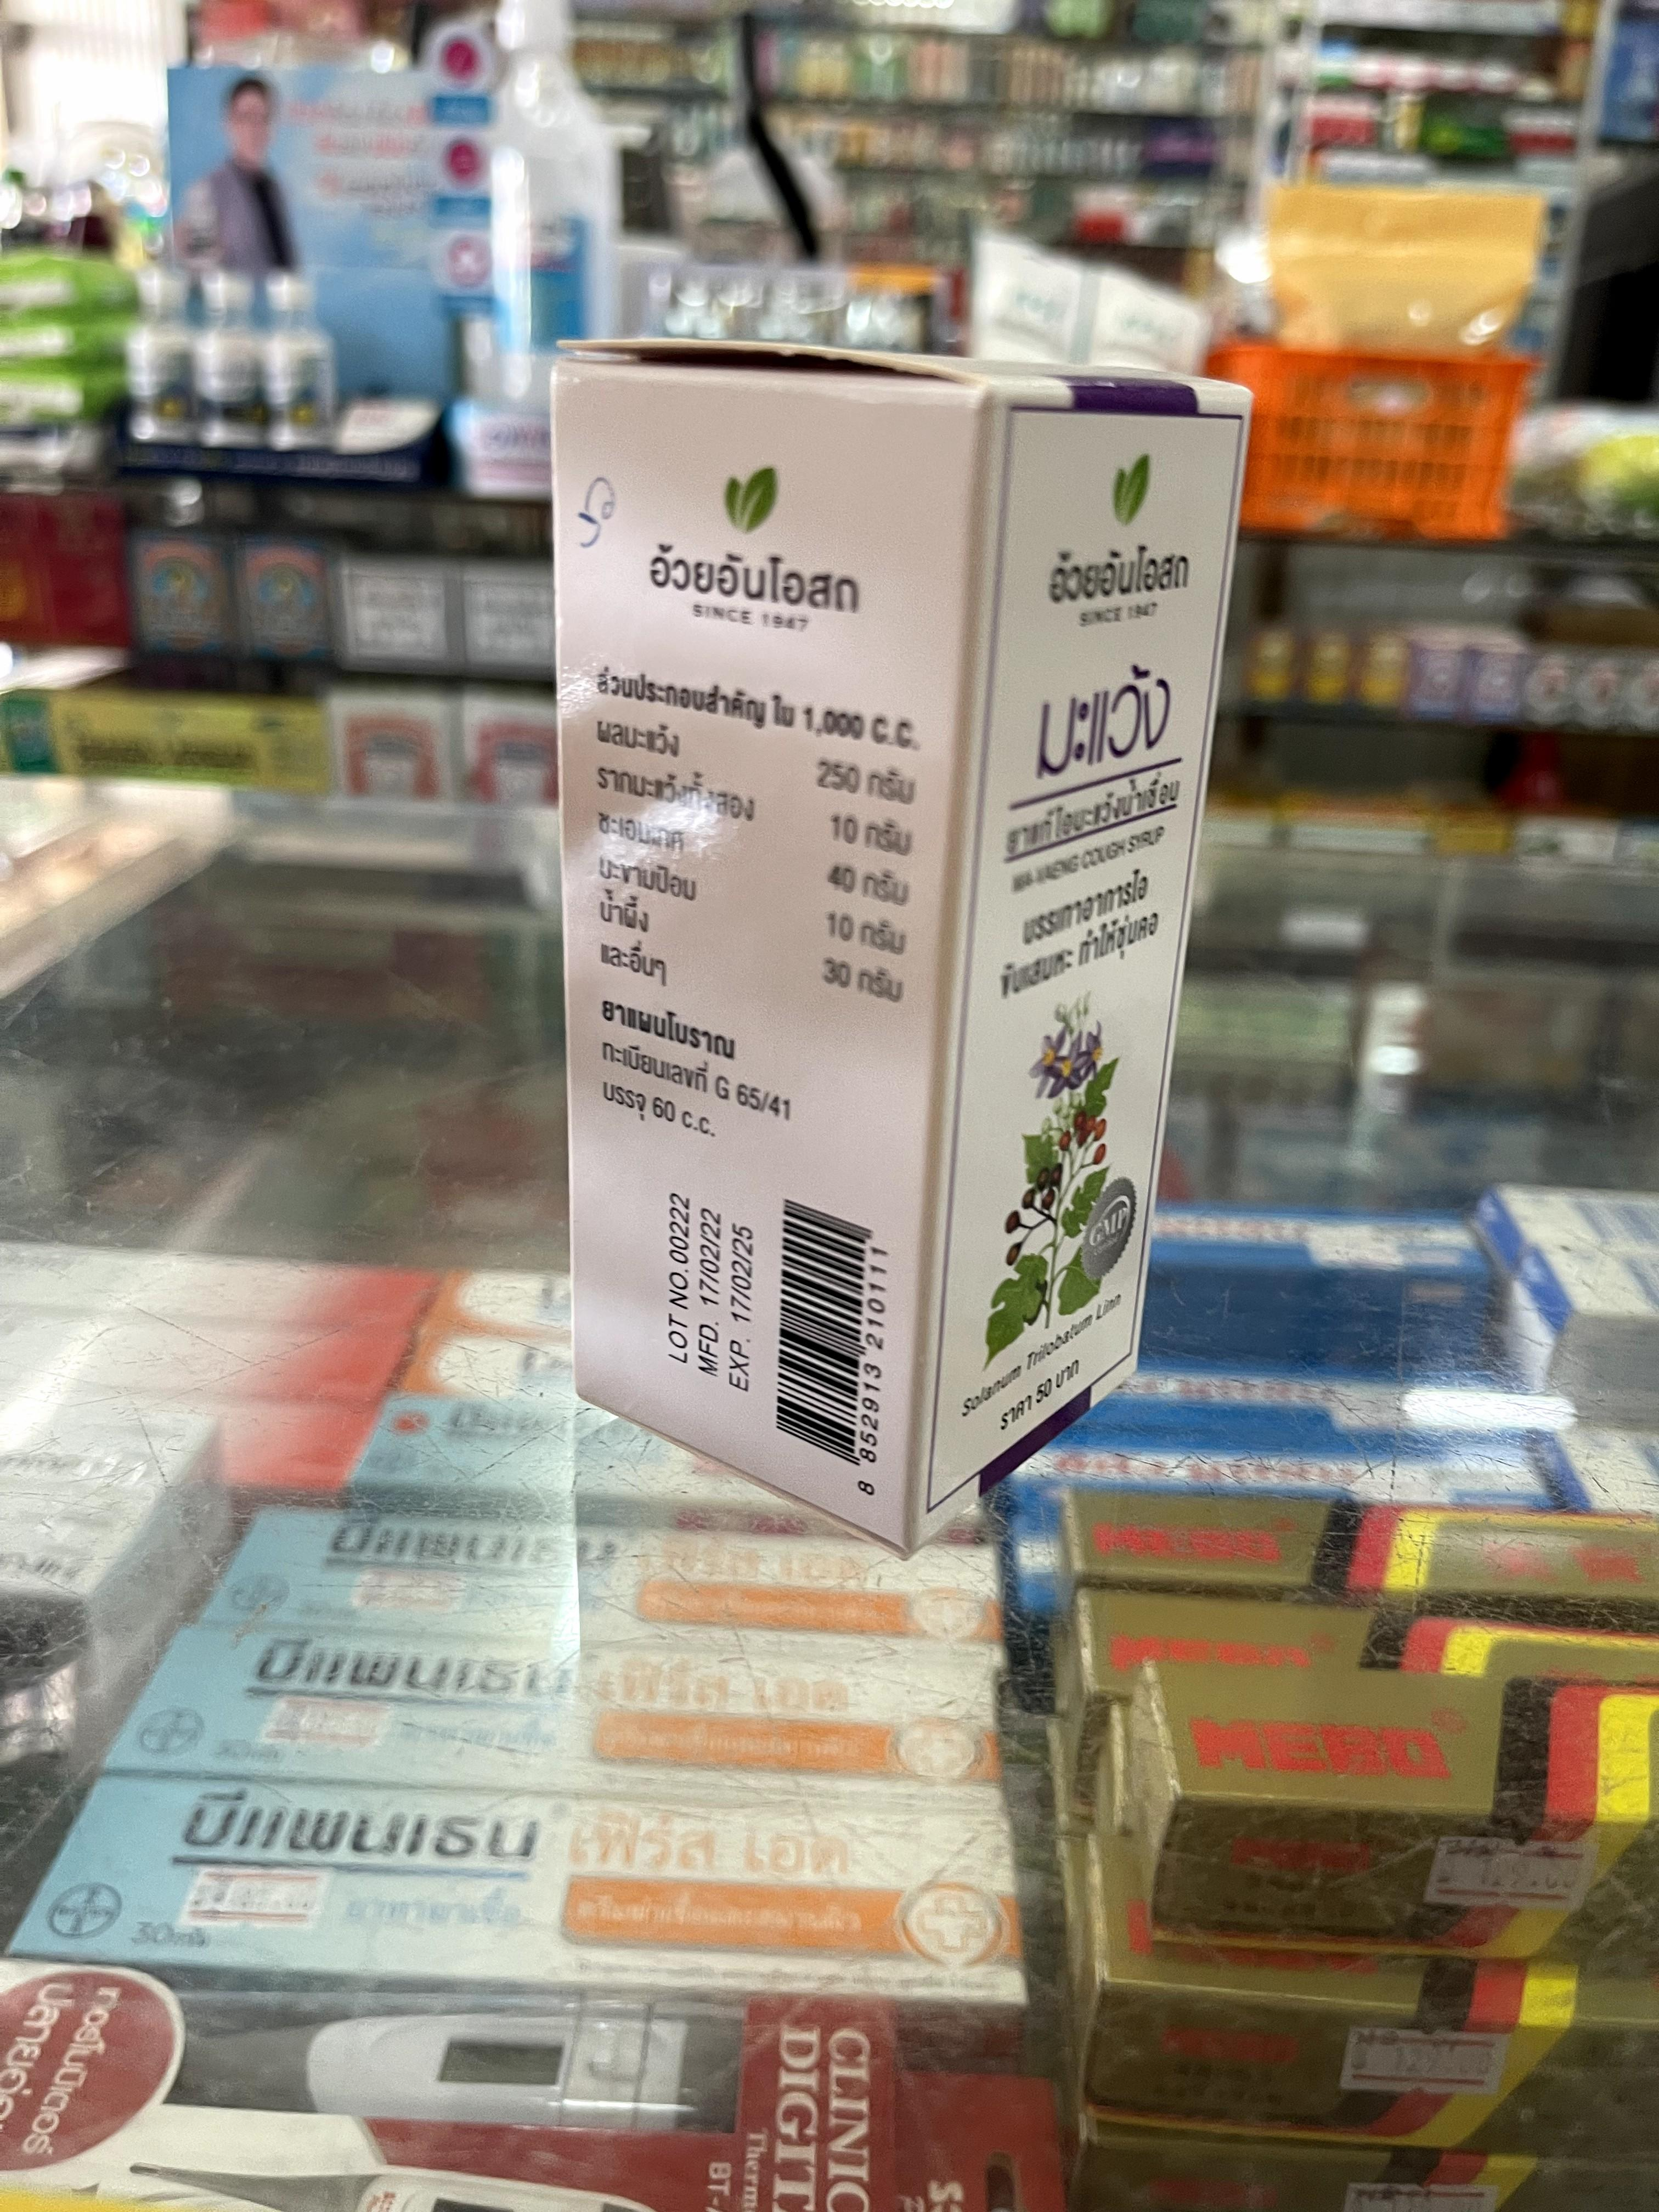Ma-Vaeng_Syrup: (559, 345, 1234, 1547)
